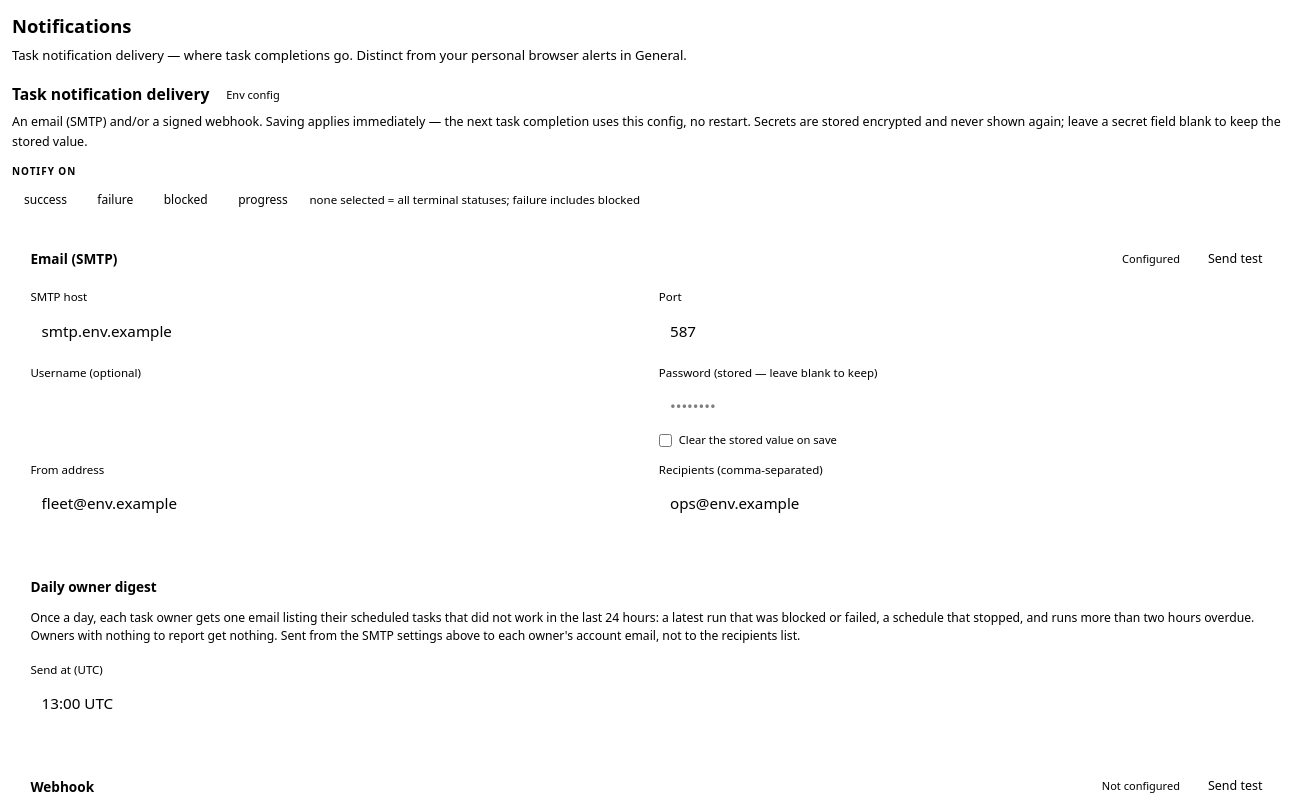
Test: NotificationsAdminPage › the test button reports the key-free result
What coordinates should you click on to do the following:
click the button with test id "notify-test-email"
I would click on:
 (1235, 259)
Its box is top-left (1197, 245), bottom-right (1274, 274).
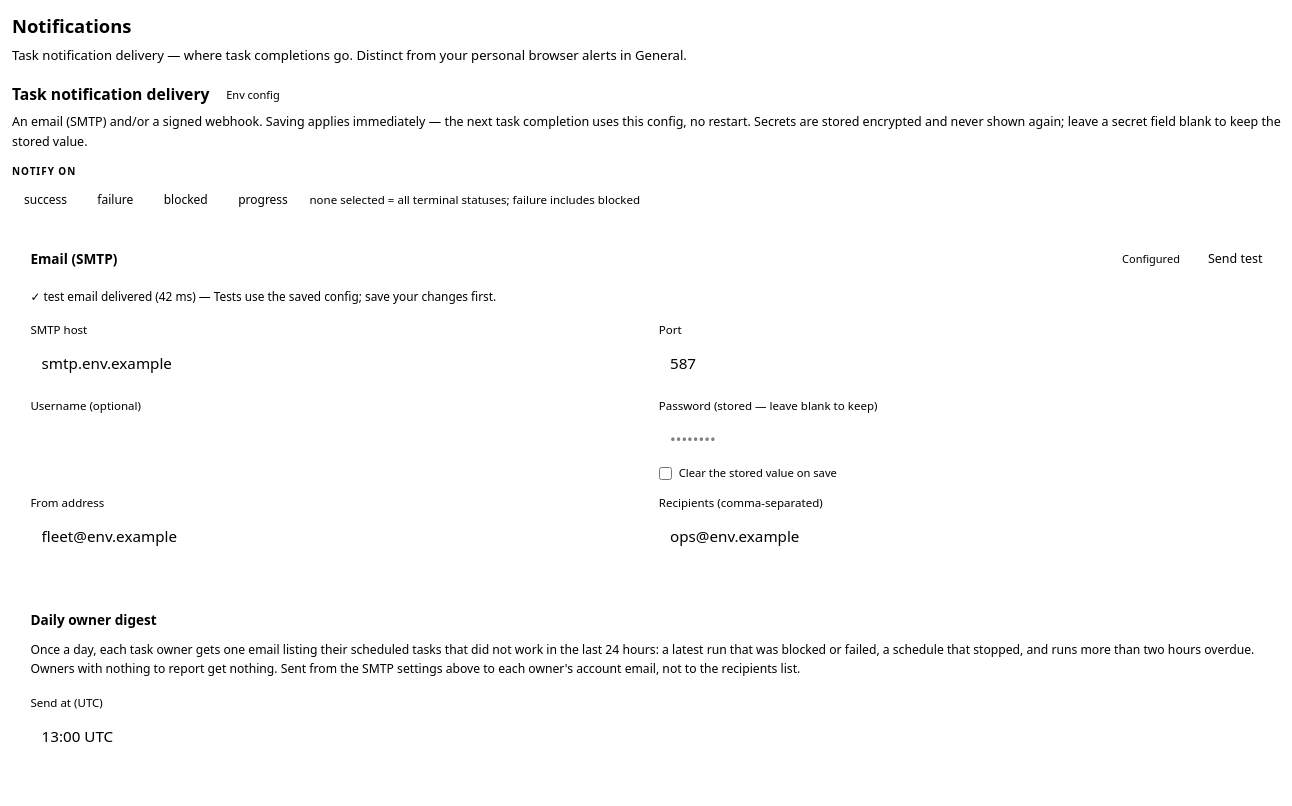
Check: the element with test id "notify-test-result-email" shows "test email delivered (42 ms)", box top-left (30, 288), bottom-right (496, 304)
